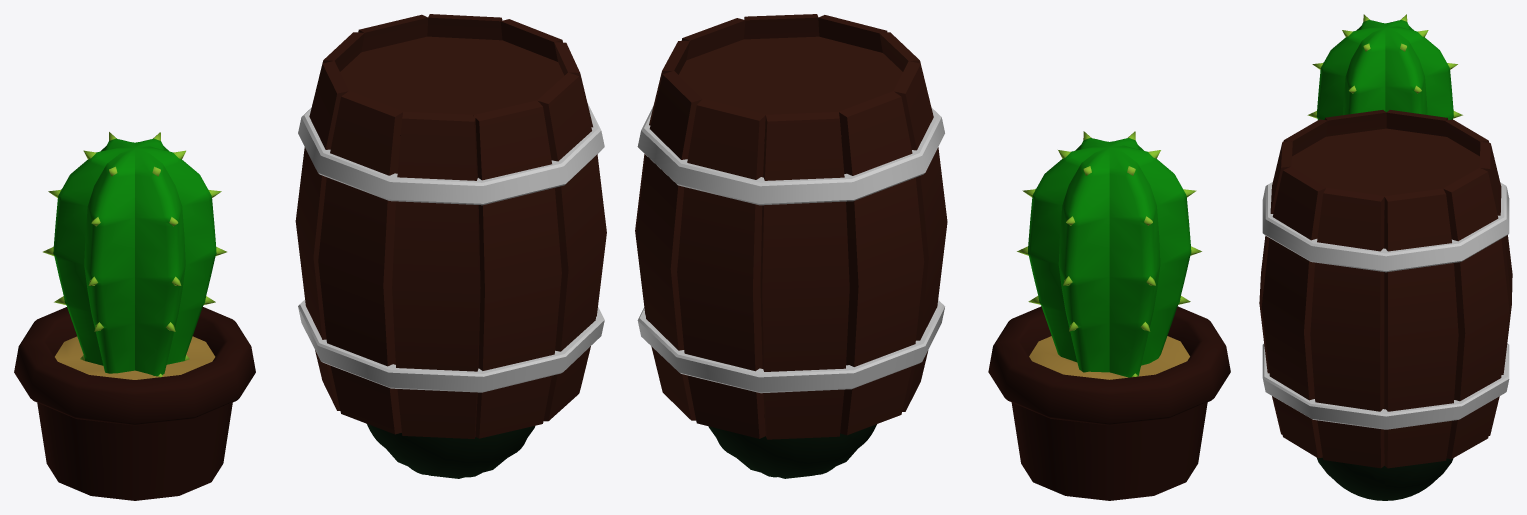
The model's file is Barrel.FBX.
The picture shows the model from 3 angles, left to right: view 1: azimuth 30°, elevation 25°; view 2: azimuth 150°, elevation 25°; view 3: azimuth 270°, elevation 25°; orthographic projection. The views are drawn at different scales.
Parts seen in each view (by area): view 1: Barrel, Cactus, Melon, MelonSlices1; view 2: Barrel, Cactus, Melon, MelonSlices2; view 3: Barrel, Cactus, Melon, MelonSlices1, MelonSlices2.
Part boxes in pixels (x1,y1,x2,y2): Barrel: (295, 14, 606, 438); Cactus: (14, 132, 255, 500); Melon: (371, 425, 535, 478); MelonSlices1: (381, 426, 531, 477); Barrel: (635, 14, 947, 439); Cactus: (988, 131, 1230, 500); Melon: (708, 425, 872, 478); MelonSlices2: (712, 427, 862, 477); Barrel: (1259, 110, 1512, 468); Cactus: (1307, 14, 1462, 119); Melon: (1317, 458, 1453, 499); MelonSlices1: (1319, 457, 1385, 500); MelonSlices2: (1385, 458, 1450, 500).
Bounding box in the file's own units: 8.15 × 5.65 × 3.82.
